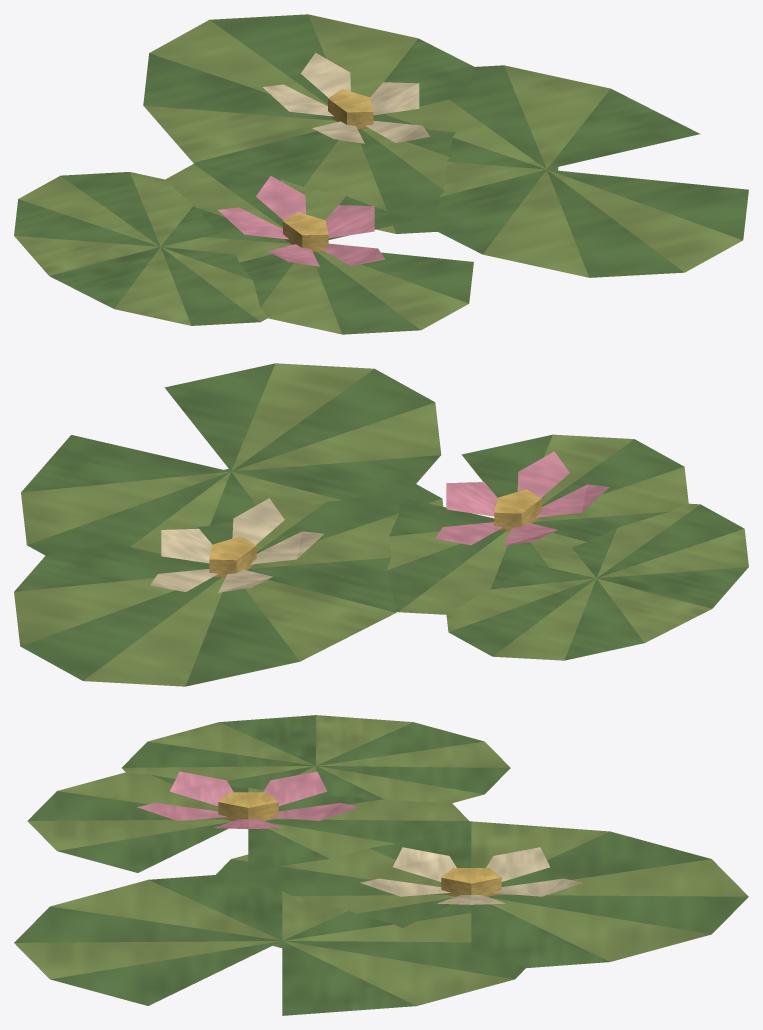
File: lotus_pad_cluster_01.fbx
3 views of the same model, one above another, from view 1: azimuth 30°, elevation 25°; view 2: azimuth 150°, elevation 25°; view 3: azimuth 270°, elevation 25° (orthographic). The views are drawn at different scales.
Parts seen in each view (by area): view 1: lotus_pad_cluster_01; view 2: lotus_pad_cluster_01; view 3: lotus_pad_cluster_01.
Boxes of the visible parts, left/top/right/bottom form: lotus_pad_cluster_01: left=14, top=14, right=748, bottom=334; lotus_pad_cluster_01: left=14, top=363, right=748, bottom=686; lotus_pad_cluster_01: left=14, top=715, right=748, bottom=1015.
Bounding box in the file's own units: 136 × 5 × 140.
1 material, 1 textured.
